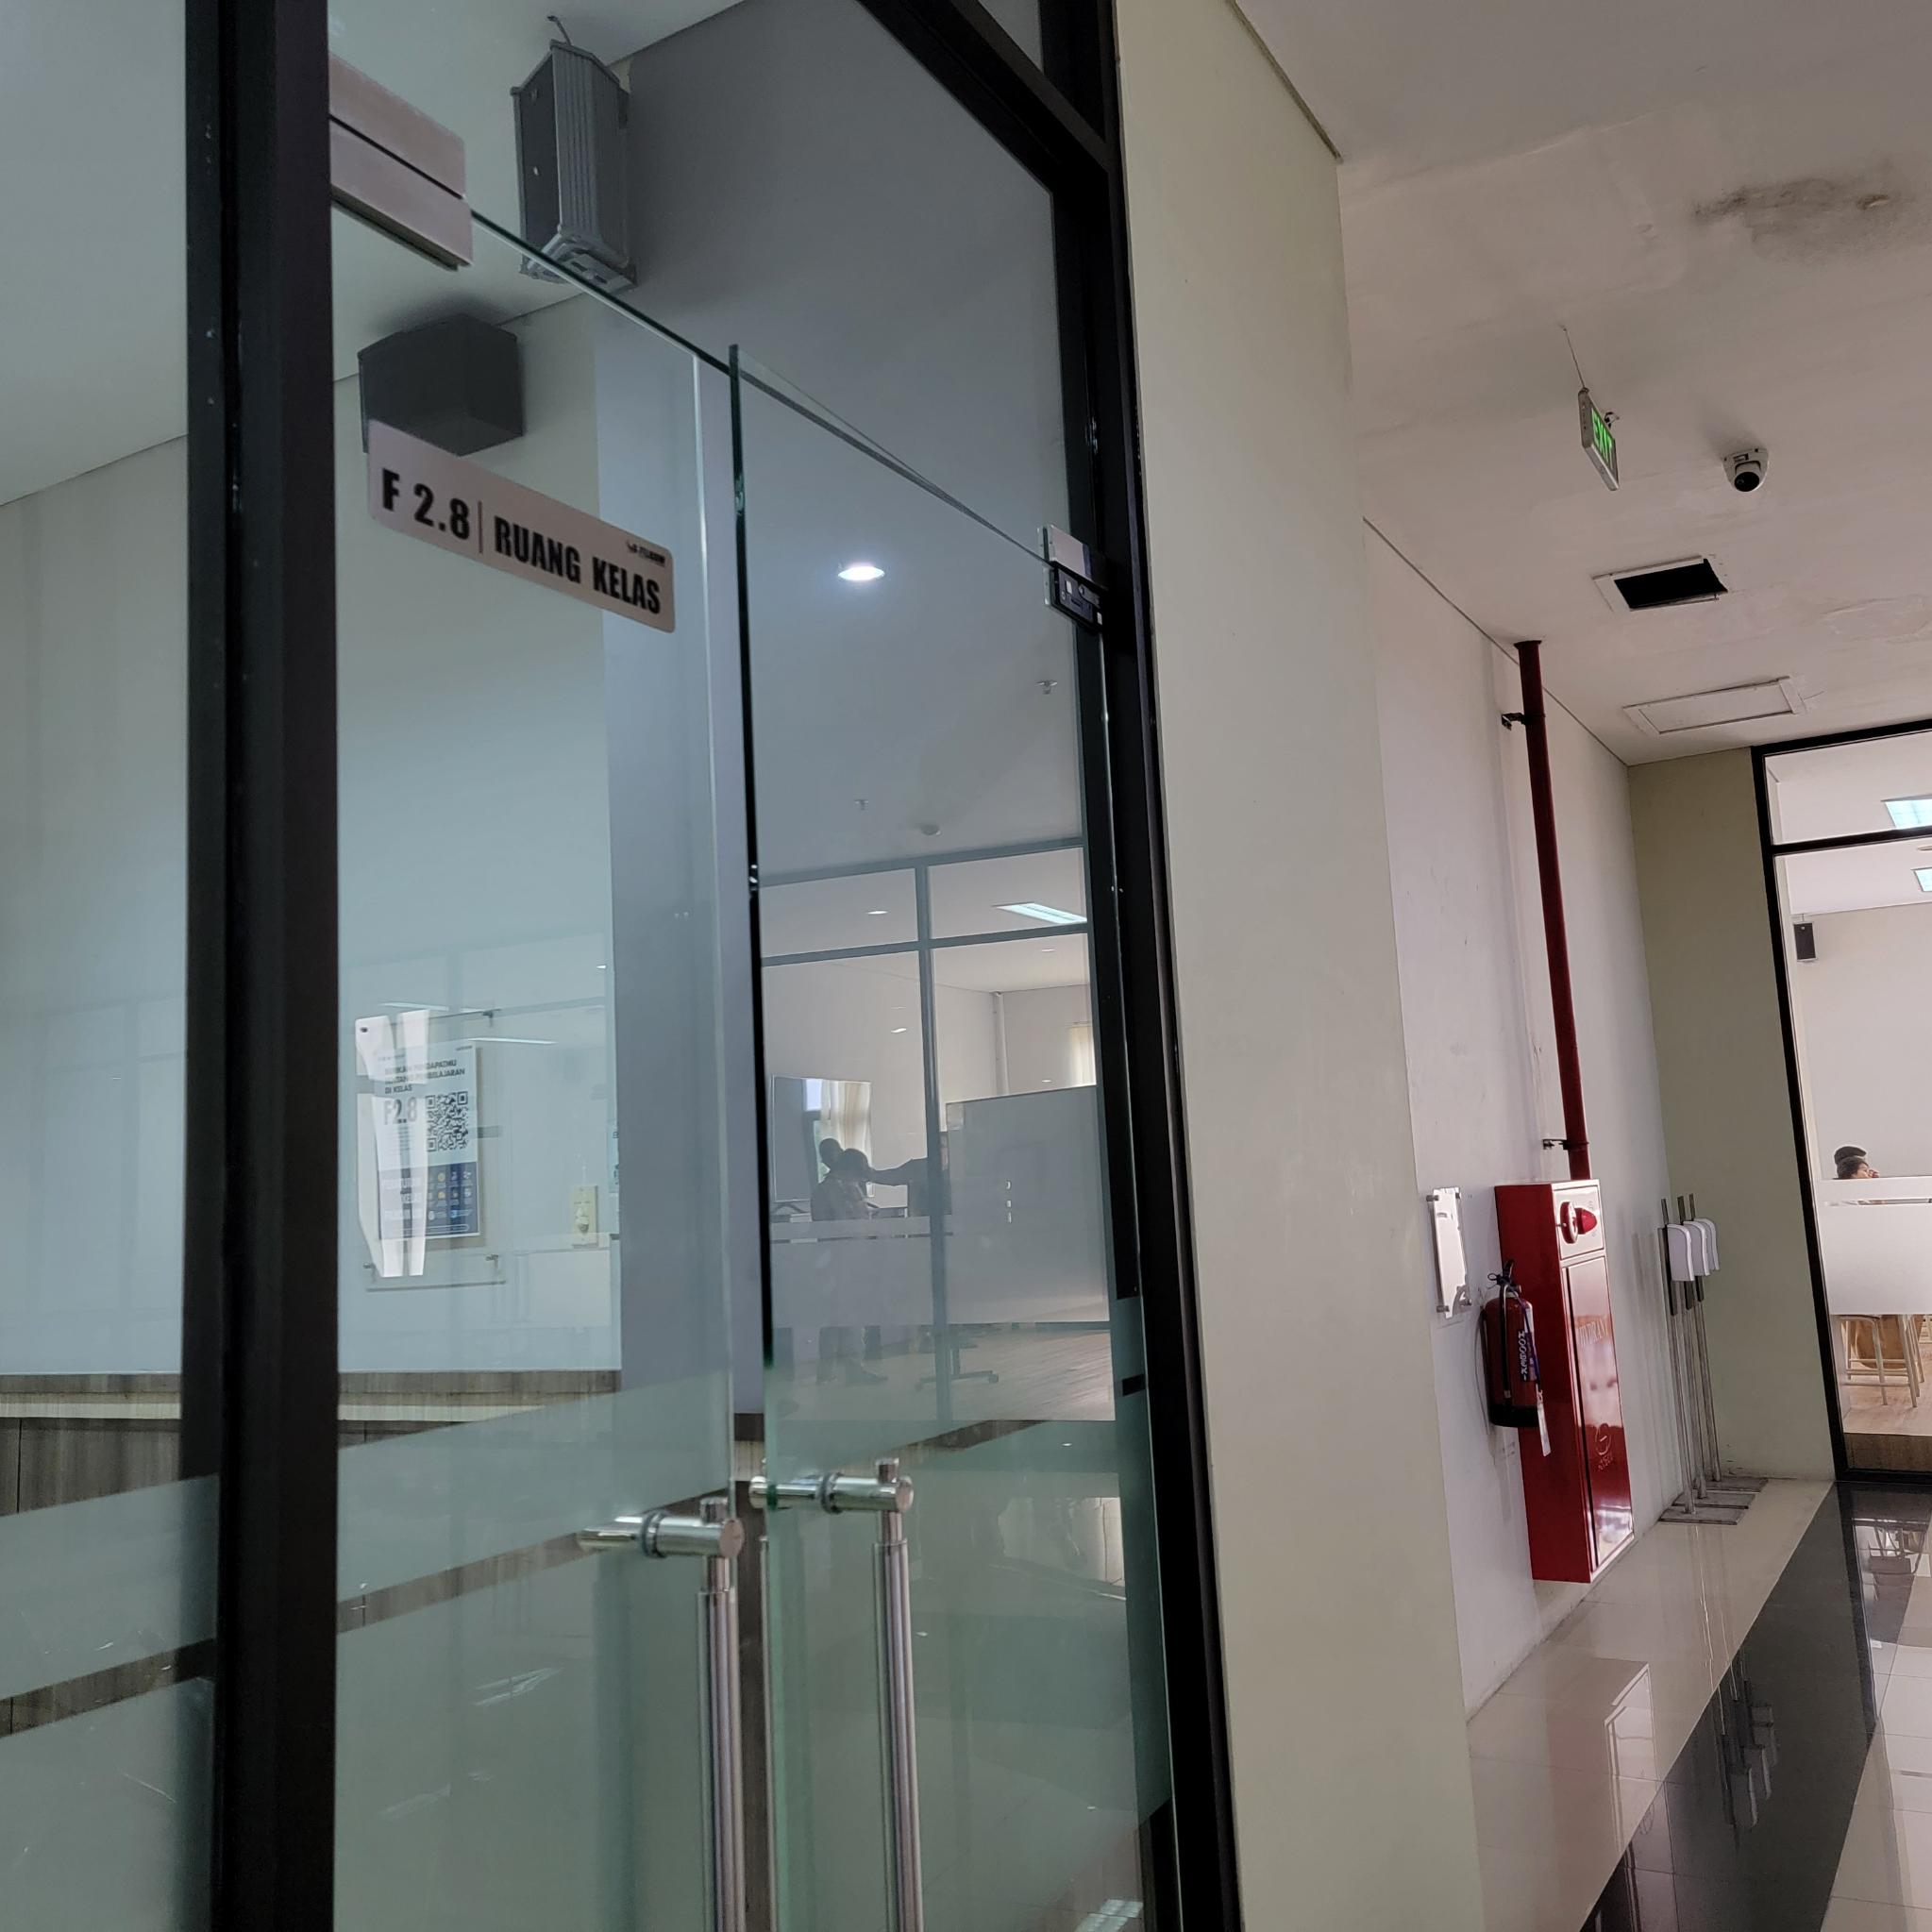plate: (366, 414, 676, 637)
